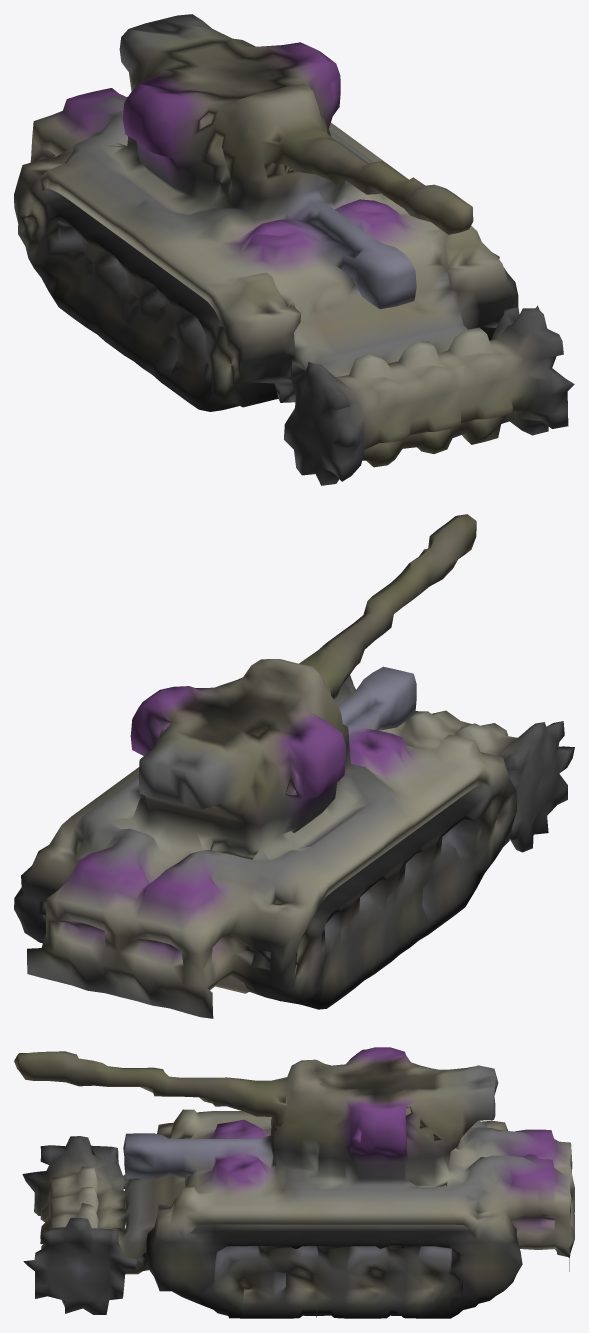
File: lasher_tank.glb
3 views of the same model, one above another, from view 1: azimuth 30°, elevation 25°; view 2: azimuth 150°, elevation 25°; view 3: azimuth 270°, elevation 25° (orthographic). The views are drawn at different scales.
Parts seen in each view (by area): view 1: lasher_tank; view 2: lasher_tank; view 3: lasher_tank.
Part boxes in pixels (x1,y1,x2,y2): lasher_tank: (14, 14, 574, 485); lasher_tank: (14, 514, 574, 1018); lasher_tank: (14, 1047, 574, 1318).
Bounding box in the file's own units: 2.14 × 2.04 × 4.74.
